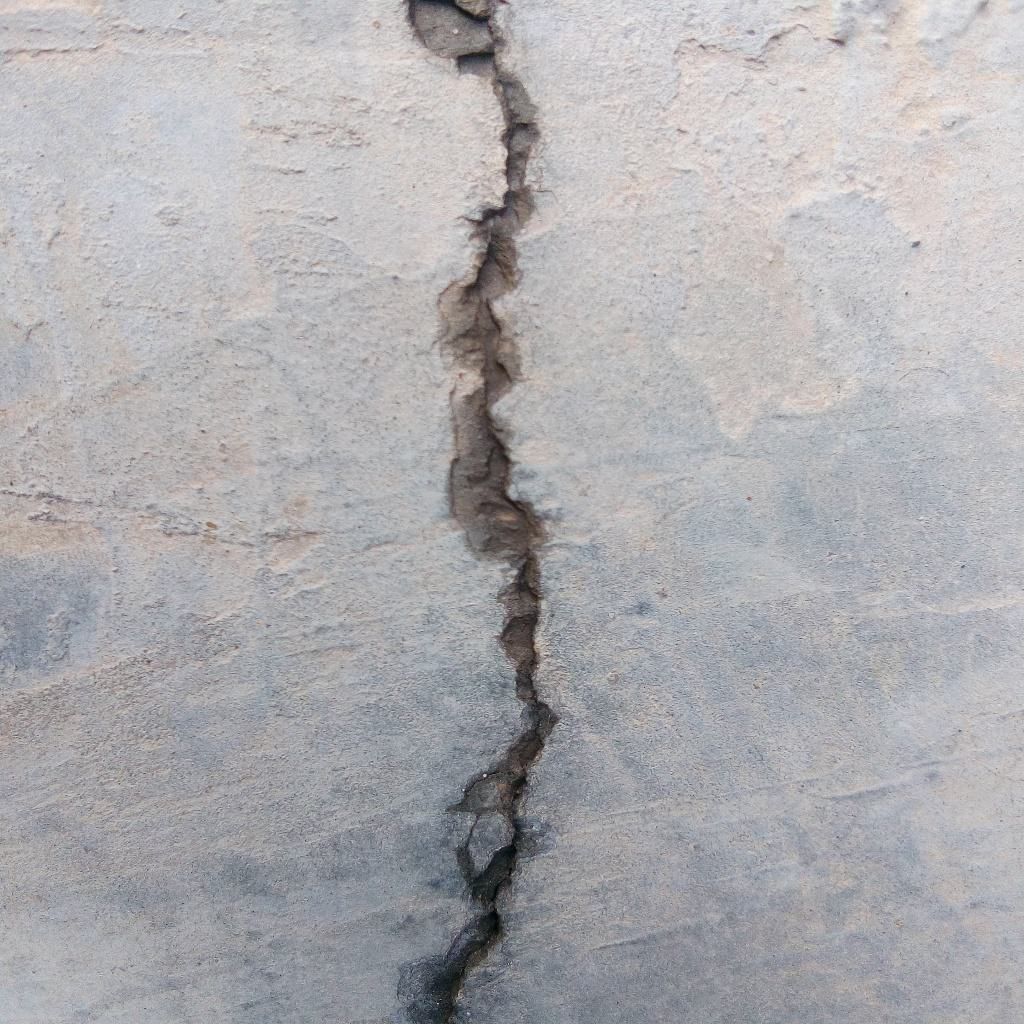Crack: (407, 1, 562, 1024)
